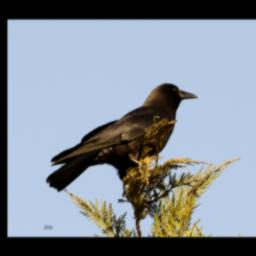Crow: (46, 79, 201, 197)
